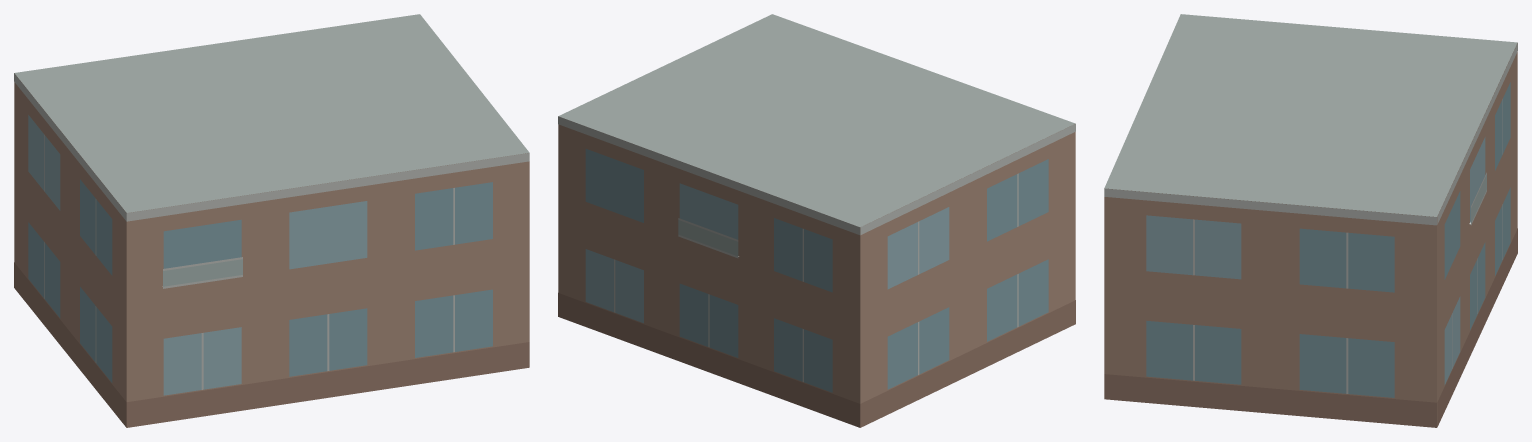
The model's file is survey-upis-33020656.glb.
3 views of the same model, side by side, from view 1: azimuth 30°, elevation 25°; view 2: azimuth 150°, elevation 25°; view 3: azimuth 270°, elevation 25° (orthographic). The views are drawn at different scales.
Visible parts, largest first — view 1: survey-upis-33020656.tmp; view 2: survey-upis-33020656.tmp; view 3: survey-upis-33020656.tmp.
Boxes of the visible parts, <box> form: survey-upis-33020656.tmp: <box>14,14,529,427</box>; survey-upis-33020656.tmp: <box>558,14,1075,427</box>; survey-upis-33020656.tmp: <box>1104,14,1517,427</box>.
Size of the model in its own units: 12.61 by 6.1 by 10.86.
